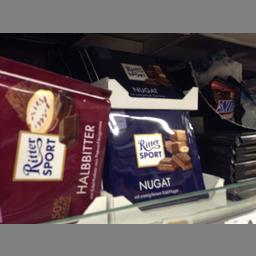chocolate: (0, 53, 107, 224), (104, 108, 213, 206), (84, 46, 190, 98)
